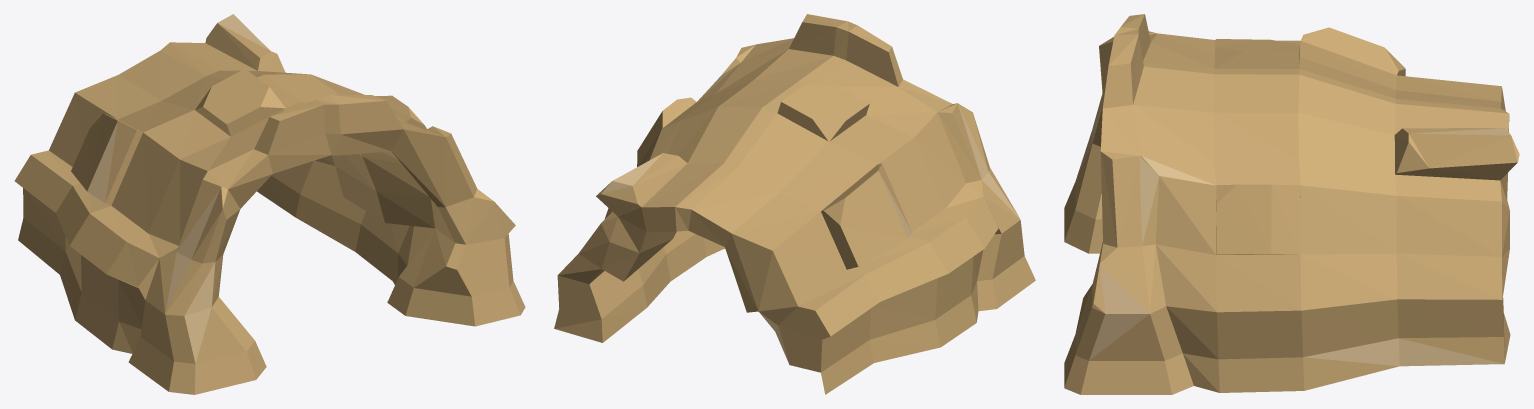
File: ruin_7.fbx
3 renders of one model, left to right at view 1: azimuth 30°, elevation 25°; view 2: azimuth 150°, elevation 25°; view 3: azimuth 270°, elevation 25°, orthographic. The views are drawn at different scales.
Parts seen in each view (by area): view 1: ruin_7; view 2: ruin_7; view 3: ruin_7.
Part boxes in pixels (<box>): ruin_7: <box>14,14,525,394</box>; ruin_7: <box>554,14,1035,394</box>; ruin_7: <box>1064,14,1519,394</box>.
Bounding box in the file's own units: 263 × 166 × 255.
